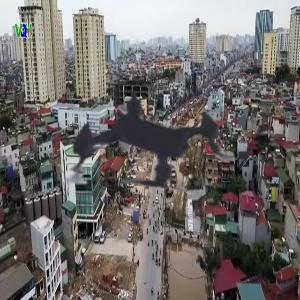drone: (26, 15, 283, 272)
